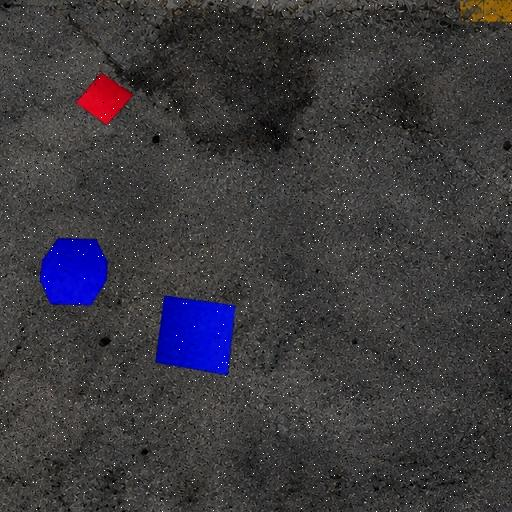BLUE_SQUARE: (155, 295, 236, 375)
RED_SQUARE: (76, 72, 134, 126)
